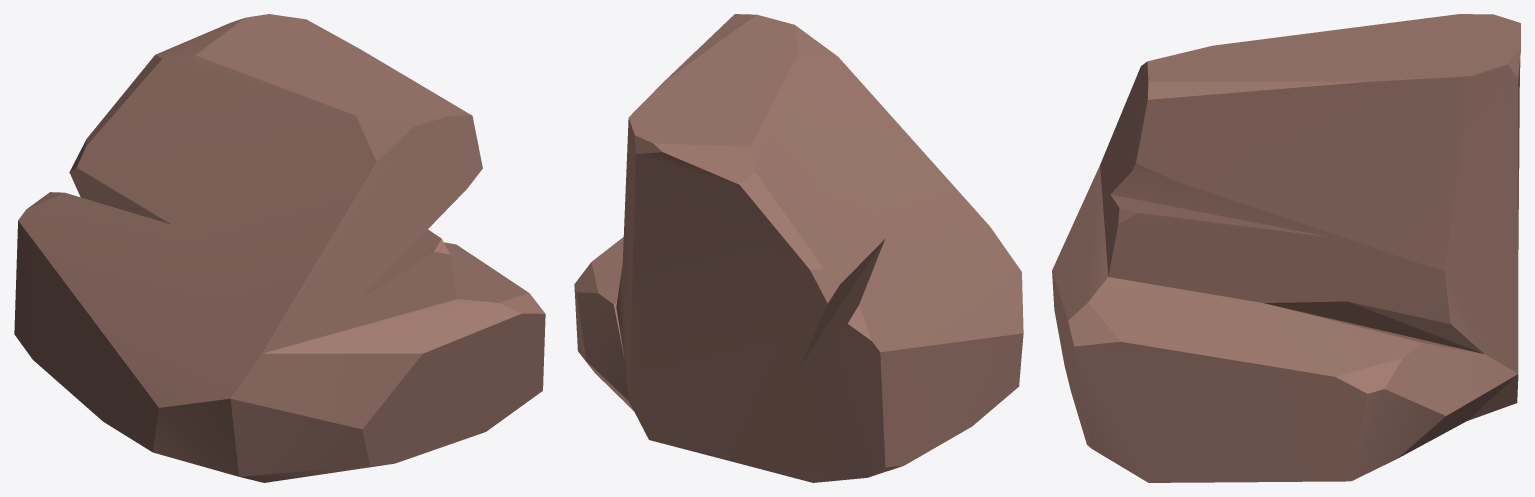
Rendered from Stone_005.FBX.
3 views of the same model, side by side, from view 1: azimuth 30°, elevation 25°; view 2: azimuth 150°, elevation 25°; view 3: azimuth 270°, elevation 25° (orthographic). The views are drawn at different scales.
Parts seen in each view (by area): view 1: Stone_005; view 2: Stone_005; view 3: Stone_005.
Part boxes in pixels (x1=…): Stone_005: x1=14, y1=14, x2=545, y2=482; Stone_005: x1=574, y1=14, x2=1023, y2=482; Stone_005: x1=1052, y1=14, x2=1520, y2=482.
Bounding box in the file's own units: 105 × 83.07 × 95.88.
